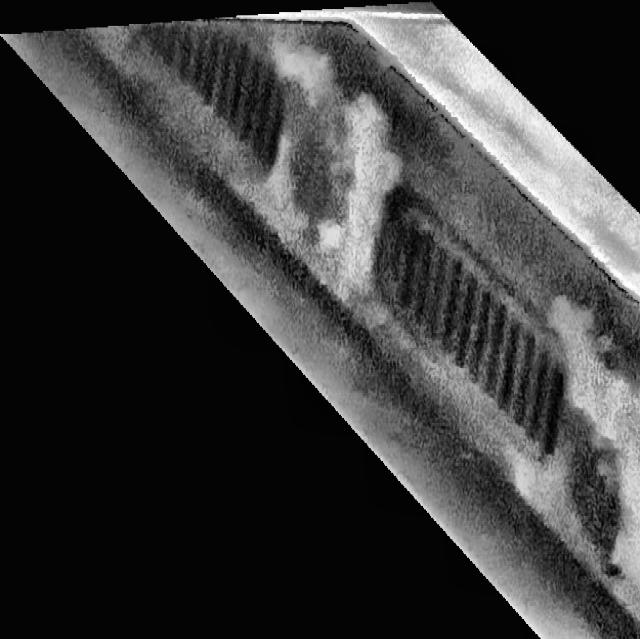stairs: (0, 1, 640, 639)
